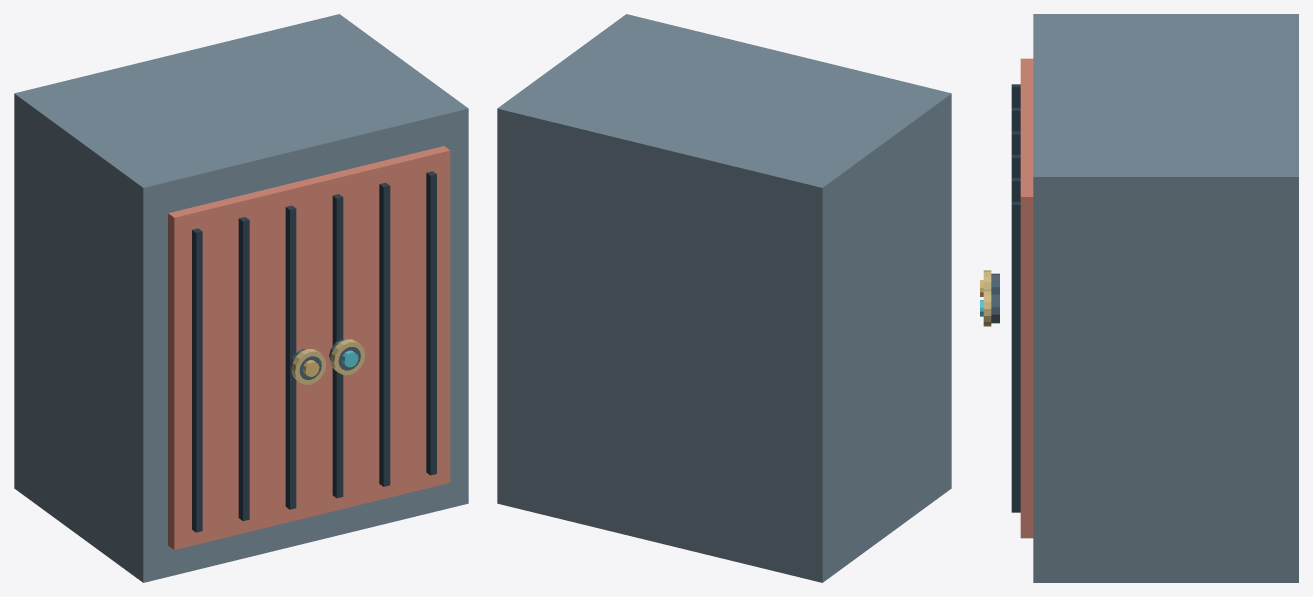
File: 25_L81_MemoryPageQuarantineModule.glb
The picture shows the model from 3 angles, left to right: view 1: azimuth 30°, elevation 25°; view 2: azimuth 150°, elevation 25°; view 3: azimuth 270°, elevation 25°; orthographic projection. The views are drawn at different scales.
Parts seen in each view (by area): view 1: MemoryPageQuarantineModule_Node_0000, MemoryPageQuarantineModule_Node_0001, MemoryPageQuarantineModule_Node_0003, MemoryPageQuarantineModule_Node_0006, MemoryPageQuarantineModule_Node_0004, MemoryPageQuarantineModule_Node_0002, MemoryPageQuarantineModule_Node_0007, MemoryPageQuarantineModule_Node_0005, MemoryPageQuarantineModule_Node_0019, MemoryPageQuarantineModule_Node_0022; view 2: MemoryPageQuarantineModule_Node_0000; view 3: MemoryPageQuarantineModule_Node_0000, MemoryPageQuarantineModule_Node_0001, MemoryPageQuarantineModule_Node_0007.
Boxes of the visible parts, x1,y1,x2,y2 form: MemoryPageQuarantineModule_Node_0000: (14,14,468,582); MemoryPageQuarantineModule_Node_0001: (168,146,450,549); MemoryPageQuarantineModule_Node_0003: (238,217,249,521); MemoryPageQuarantineModule_Node_0006: (379,182,390,486); MemoryPageQuarantineModule_Node_0004: (285,205,296,509); MemoryPageQuarantineModule_Node_0002: (192,228,202,532); MemoryPageQuarantineModule_Node_0007: (426,171,436,475); MemoryPageQuarantineModule_Node_0005: (332,194,343,498); MemoryPageQuarantineModule_Node_0019: (291,349,326,384); MemoryPageQuarantineModule_Node_0022: (330,339,365,375); MemoryPageQuarantineModule_Node_0000: (497,14,951,582); MemoryPageQuarantineModule_Node_0000: (1033,14,1298,582); MemoryPageQuarantineModule_Node_0001: (1020,58,1033,538); MemoryPageQuarantineModule_Node_0007: (1011,201,1020,512).
Size of the model in its own units: 1.25 by 1.45 by 1.03.
